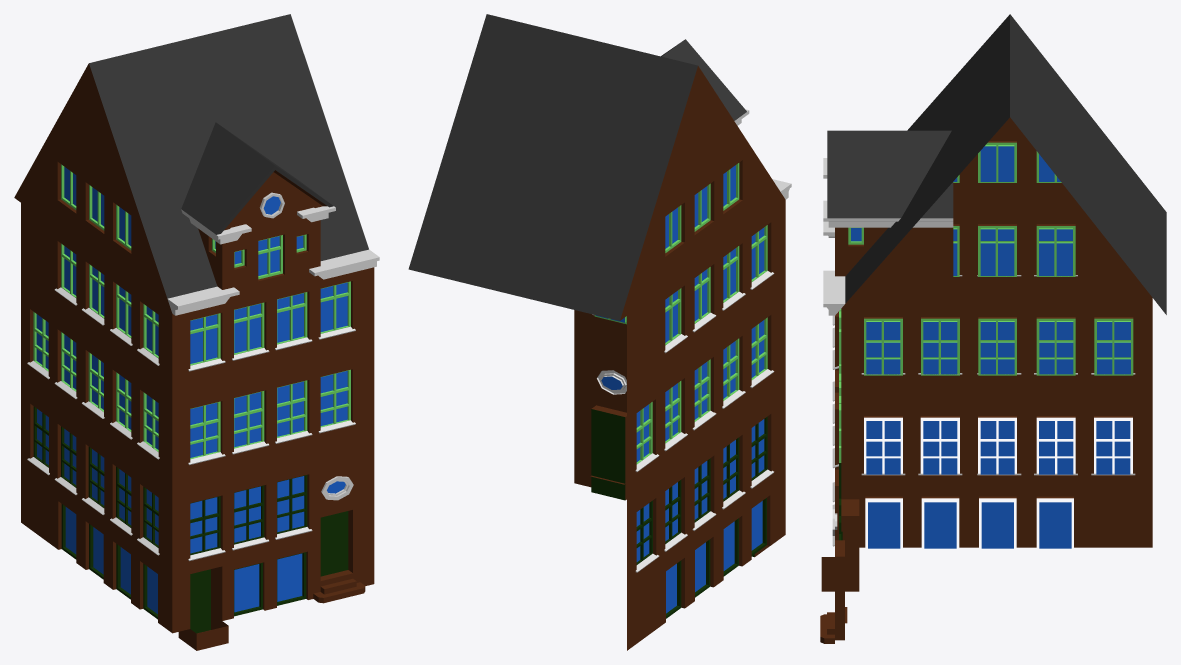
File: Building_1.fbx
3 renders of one model, left to right at view 1: azimuth 30°, elevation 25°; view 2: azimuth 150°, elevation 25°; view 3: azimuth 270°, elevation 25°, orthographic. The views are drawn at different scales.
Parts seen in each view (by area): view 1: Cube.120; view 2: Cube.120; view 3: Cube.120.
Part boxes in pixels (x1,y1,x2,y2): Cube.120: (14,14,379,650); Cube.120: (408,14,791,650); Cube.120: (820,14,1166,643).
Size of the model in its own units: 784 by 1935 by 1101.
